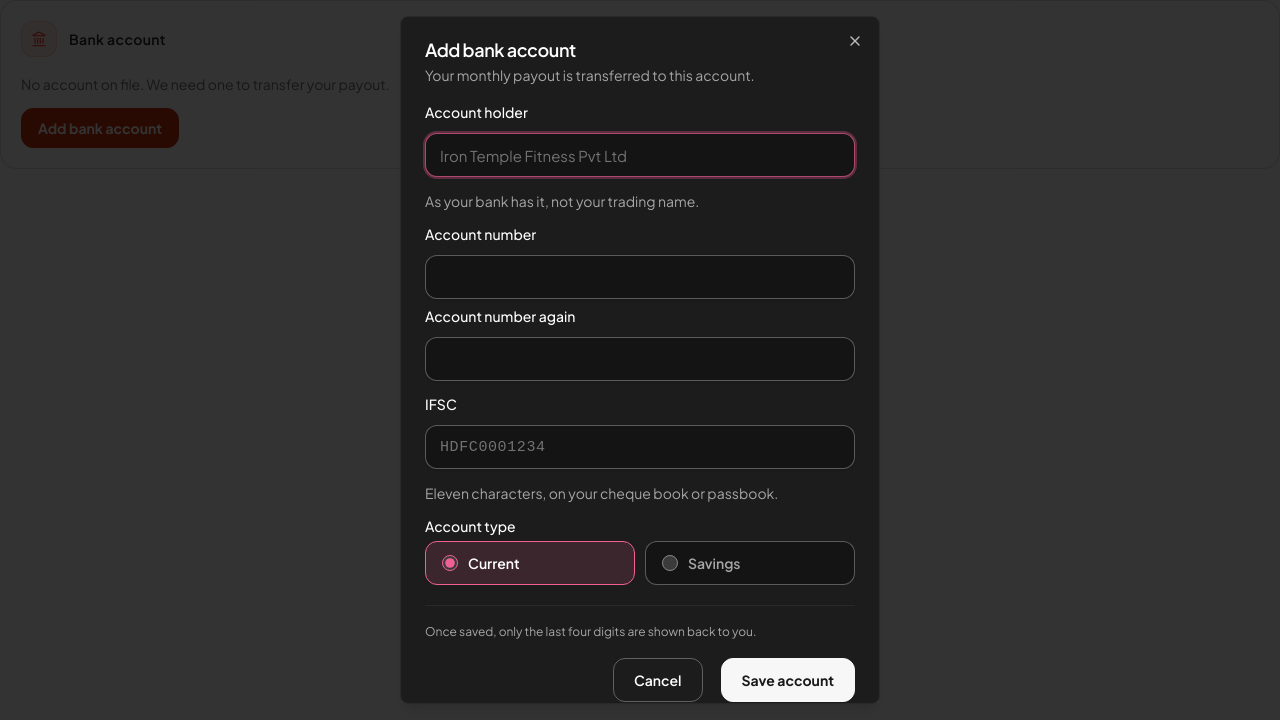
it: the account on file › lets a gym back out of the form without saving anything
Check: the field with test id "input-account-number" is shown, box [425,255,855,299]
Click the button with test id "button-cancel-payout-account": click(658, 680) [613,658,702,702]
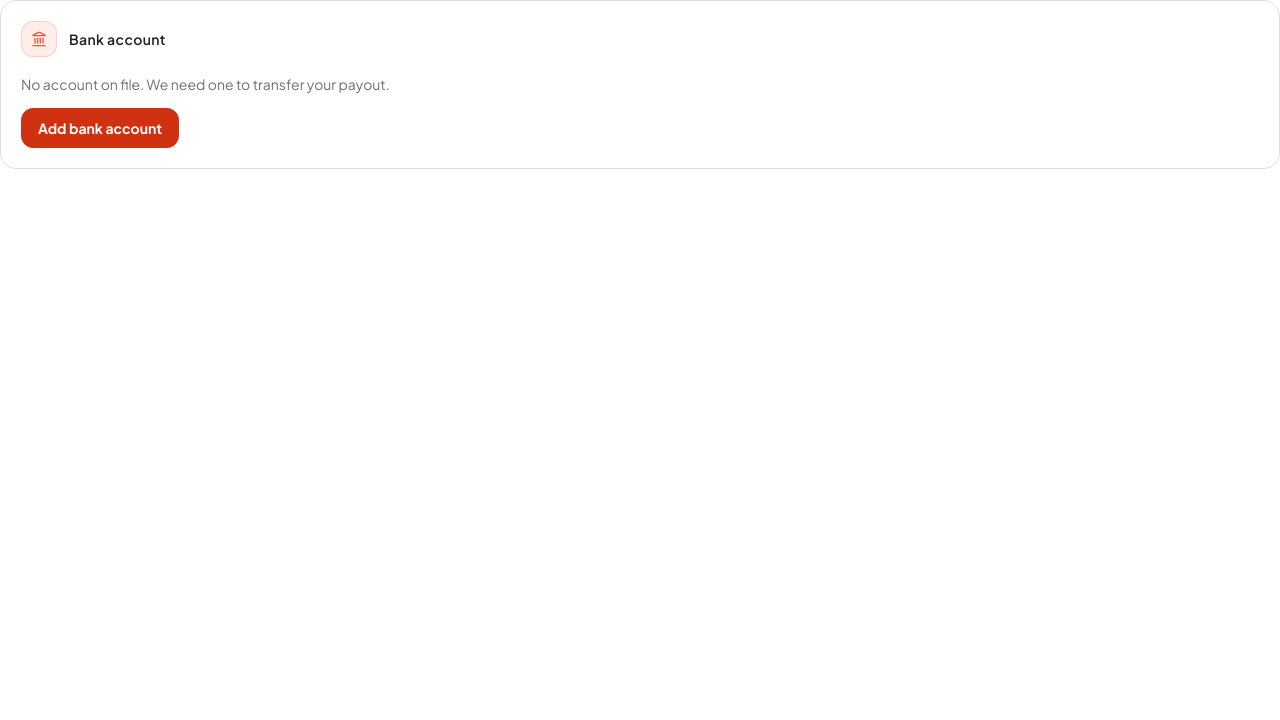
Check: the field with test id "input-account-number" is gone
